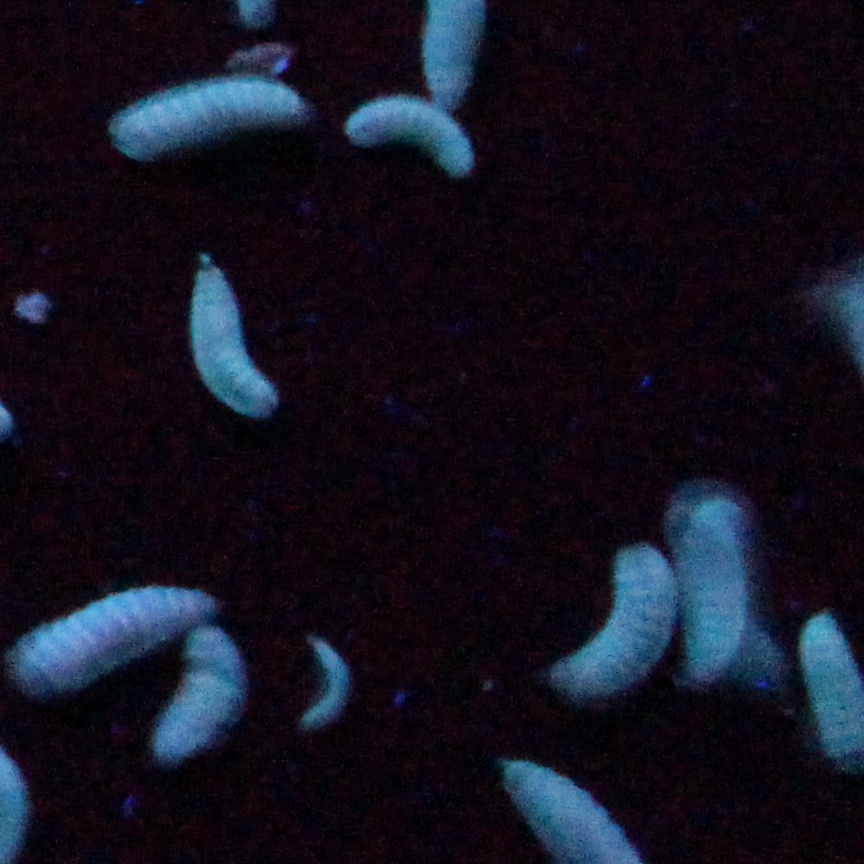larve: (9, 587, 211, 689), (560, 540, 676, 695), (112, 69, 306, 156), (171, 248, 273, 413), (152, 620, 253, 762), (683, 484, 753, 680), (343, 99, 473, 179), (293, 628, 348, 735)
